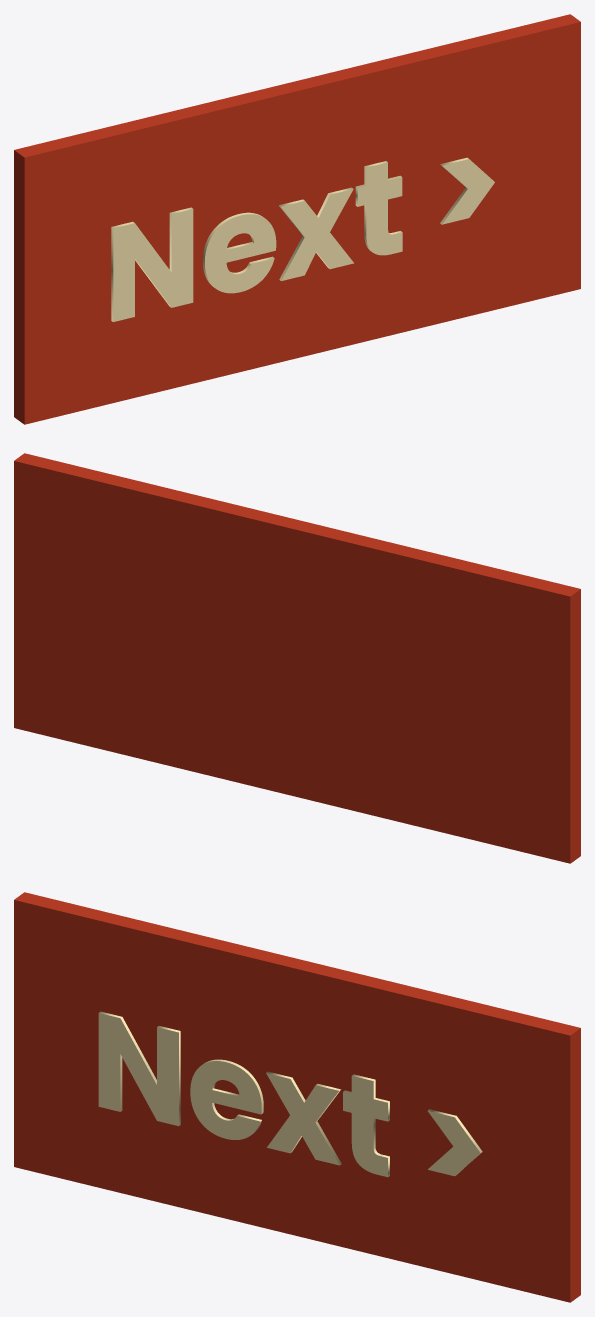
Rendered from nextButton.gltf.
3 views of the same model, one above another, from view 1: azimuth 30°, elevation 25°; view 2: azimuth 150°, elevation 25°; view 3: azimuth 330°, elevation 25° (orthographic).
Parts seen in each view (by area): view 1: nextButton.001, Text.003; view 2: nextButton.001; view 3: nextButton.001, Text.003.
Boxes of the visible parts, bbox=[...] form: nextButton.001: bbox=[14, 14, 580, 424]; Text.003: bbox=[111, 157, 494, 321]; nextButton.001: bbox=[14, 453, 580, 863]; nextButton.001: bbox=[14, 892, 580, 1302]; Text.003: bbox=[98, 1011, 482, 1177].
Bounding box in the file's own units: 3.81 × 1.75 × 0.1486.
